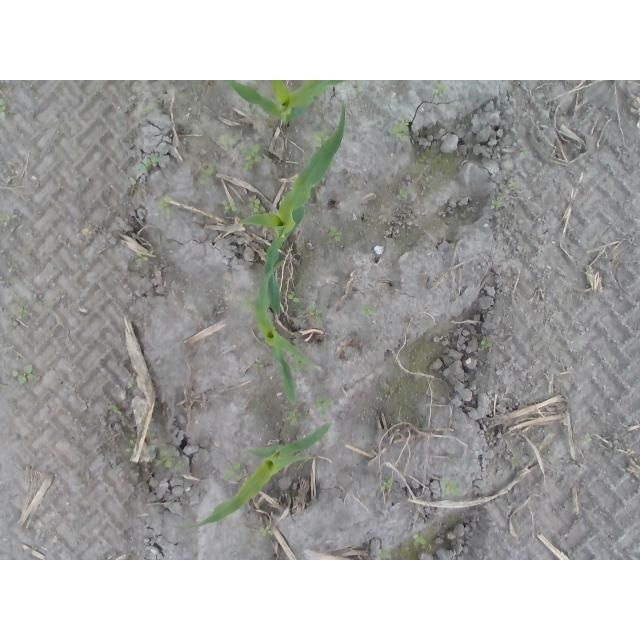Maize: (238, 102, 347, 408), (177, 424, 336, 531), (228, 81, 344, 123)
Weeds: (126, 437, 185, 475), (387, 120, 409, 145), (13, 365, 37, 387), (219, 464, 244, 485), (441, 479, 463, 501), (242, 145, 263, 168), (138, 156, 161, 176), (312, 129, 332, 148), (247, 193, 265, 213), (314, 395, 335, 410), (375, 546, 395, 560), (219, 138, 237, 153), (156, 200, 171, 216), (240, 297, 256, 312), (223, 201, 239, 215), (328, 228, 342, 244), (360, 307, 380, 317), (413, 533, 427, 547), (133, 249, 147, 263), (310, 307, 323, 322), (435, 84, 449, 97), (480, 337, 493, 351), (251, 360, 265, 373), (2, 98, 11, 118), (19, 304, 30, 320), (0, 216, 18, 225), (380, 480, 392, 493), (290, 409, 301, 423), (286, 293, 299, 304), (260, 526, 273, 536), (110, 406, 123, 416), (203, 168, 217, 177), (490, 199, 502, 209), (127, 175, 137, 185), (583, 434, 592, 444), (512, 454, 521, 463), (400, 190, 409, 199), (523, 147, 531, 157), (506, 182, 512, 186)
